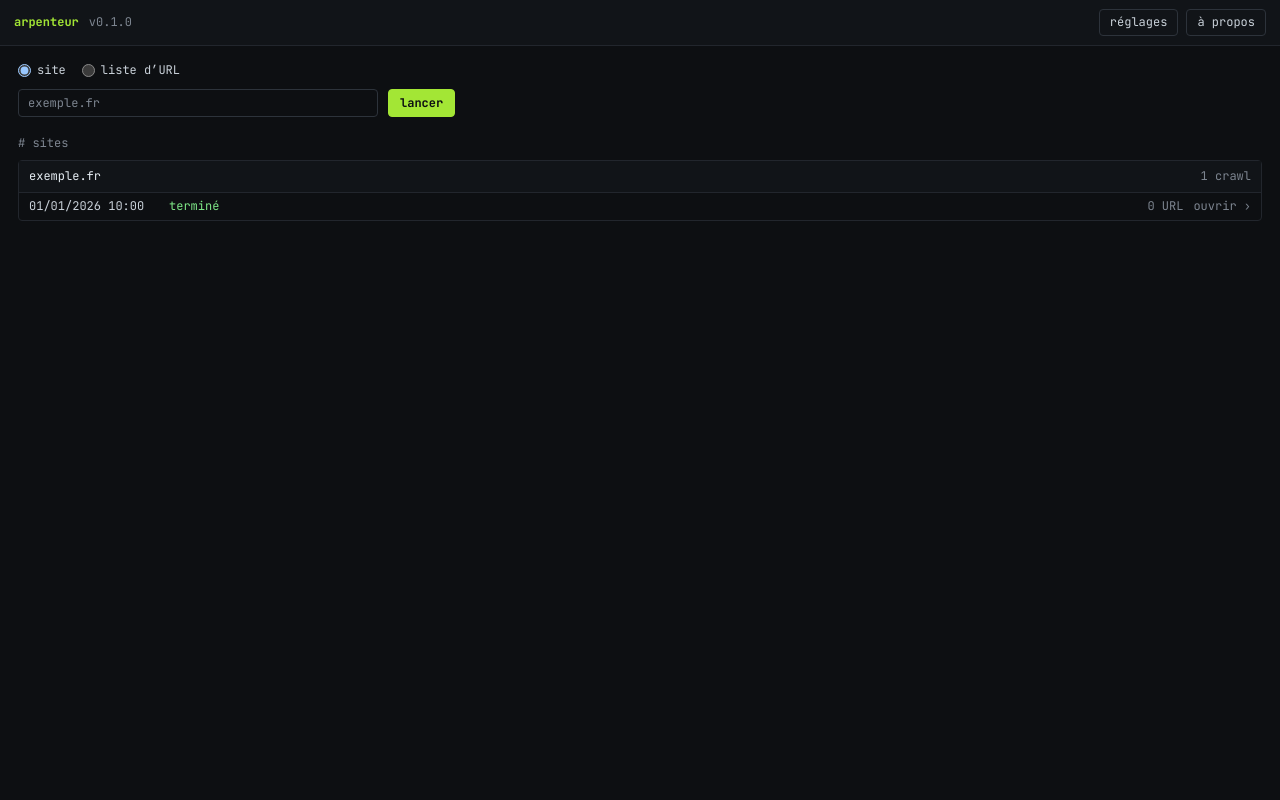
relancer remonte l’écran : le nouveau crawl affiche sa progression
This screenshot has width=1280, height=800.
Click the button "01/01/2026 10:00 terminé 0 URL ouvrir": (87, 206) [19,193,1261,220]
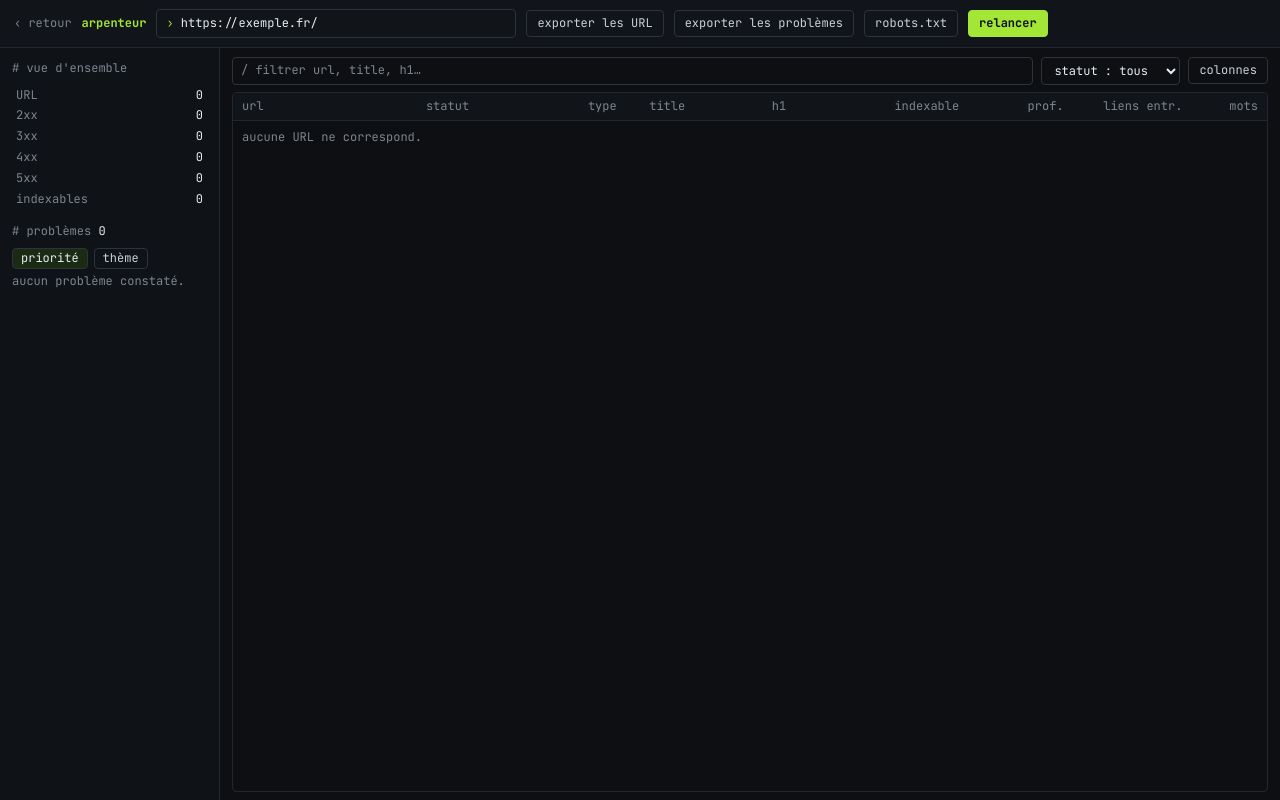
Click the button "relancer": (1008, 23) [968,10,1048,37]
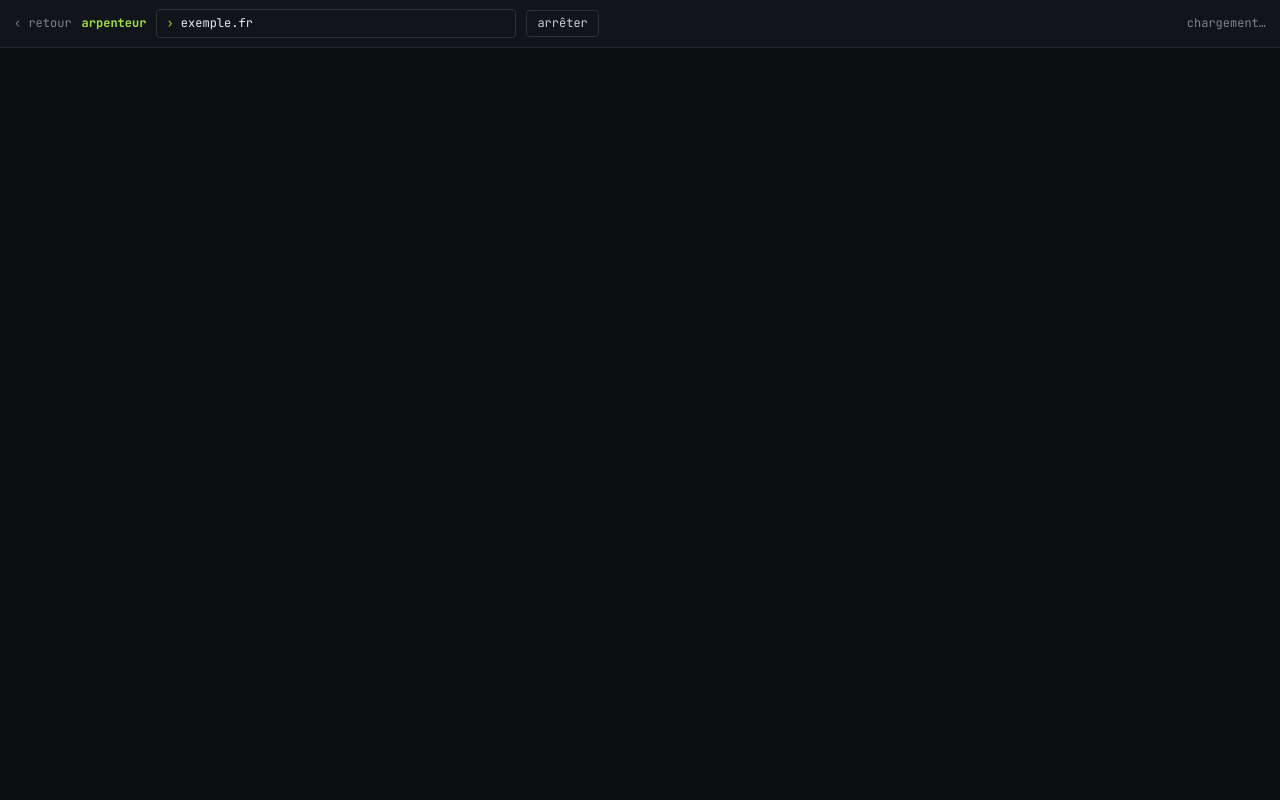
Result: the button "arrêter" is shown at [526,10,599,37]
Result: the button "relancer" is gone
